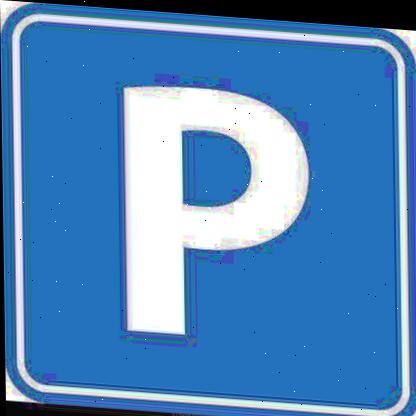Parking: (18, 21, 404, 415)
